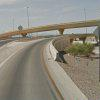Bridge: (3, 18, 97, 38)
